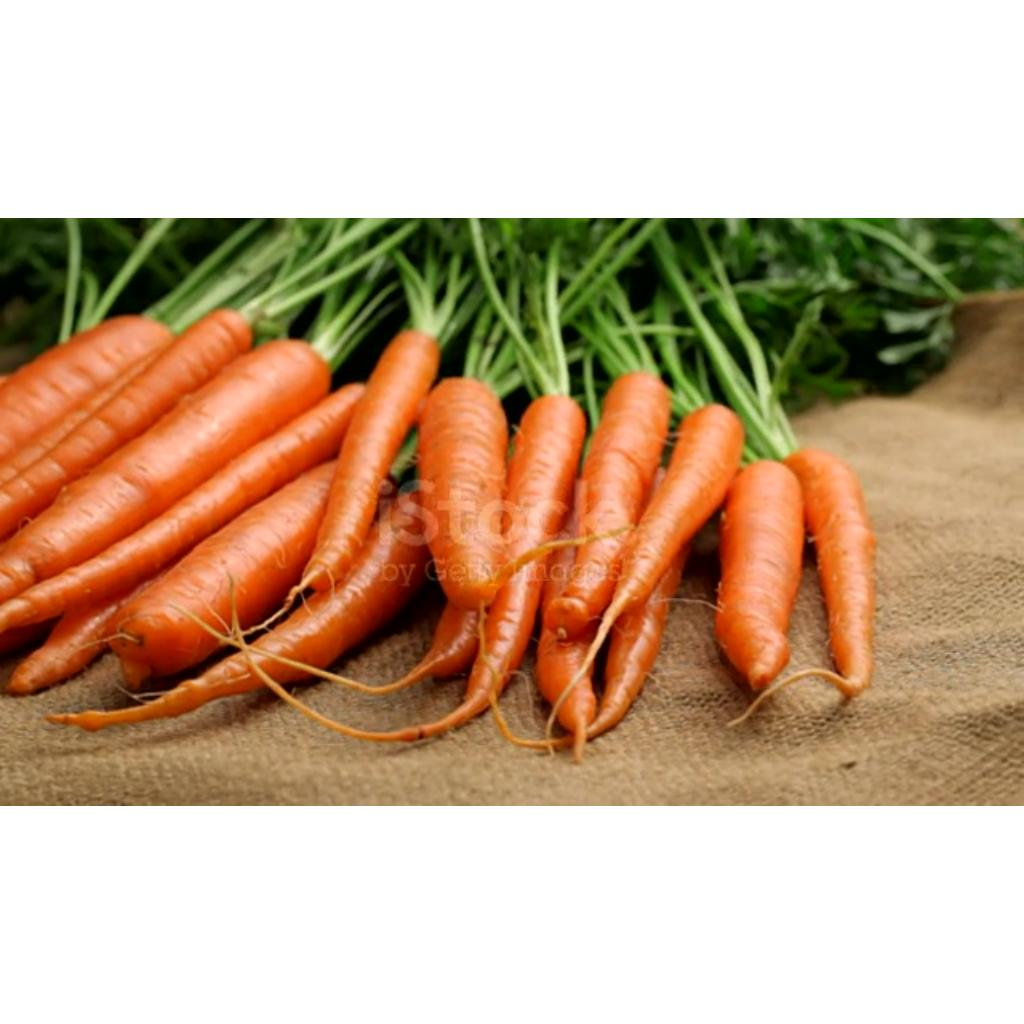carrot: (53, 495, 430, 734), (1, 387, 364, 633), (0, 340, 330, 603), (416, 396, 586, 738), (1, 310, 252, 541), (107, 450, 340, 688), (728, 450, 876, 727), (296, 330, 438, 593), (546, 376, 671, 644), (602, 404, 744, 627), (0, 316, 172, 461), (418, 378, 508, 610), (716, 460, 804, 691), (588, 546, 689, 739)
